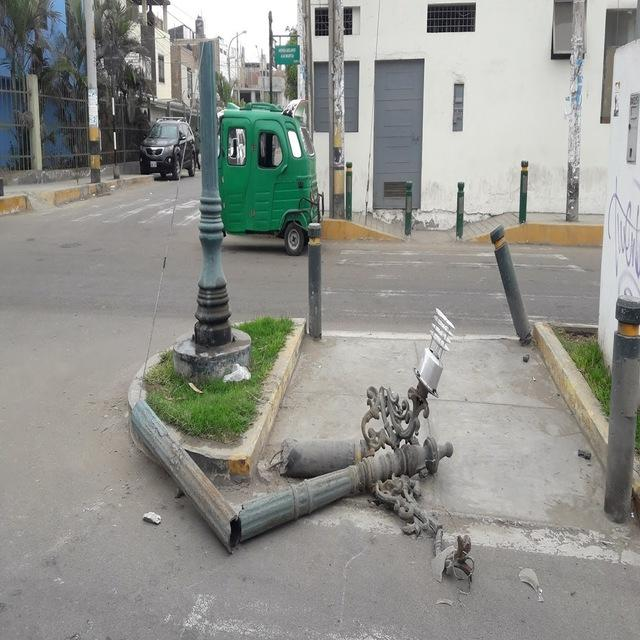Inclined Pole: (129, 297, 481, 589)
